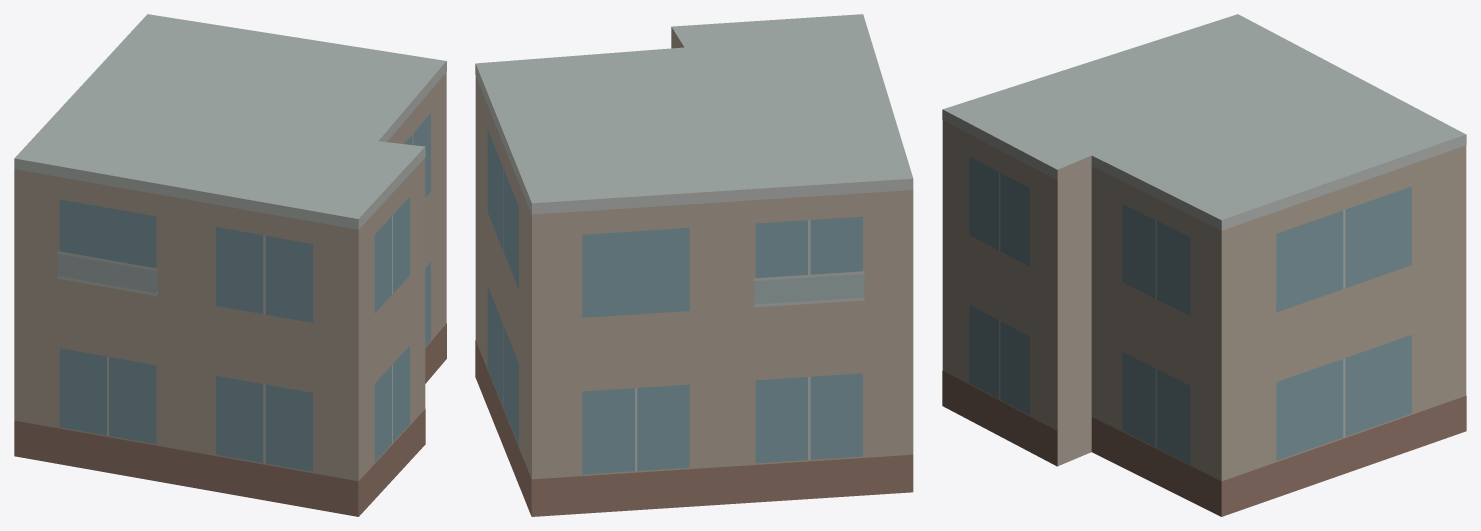
The model's file is survey-upis-32494539.glb.
The picture shows the model from 3 angles, left to right: view 1: azimuth 30°, elevation 25°; view 2: azimuth 150°, elevation 25°; view 3: azimuth 270°, elevation 25°; orthographic projection. The views are drawn at different scales.
Parts seen in each view (by area): view 1: survey-upis-32494539.tmp; view 2: survey-upis-32494539.tmp; view 3: survey-upis-32494539.tmp.
Part boxes in pixels (x1,y1,x2,y2): survey-upis-32494539.tmp: [14, 14, 446, 516]; survey-upis-32494539.tmp: [475, 14, 913, 516]; survey-upis-32494539.tmp: [942, 14, 1466, 516].
Bounding box in the file's own units: 10.15 × 6.8 × 10.89.
